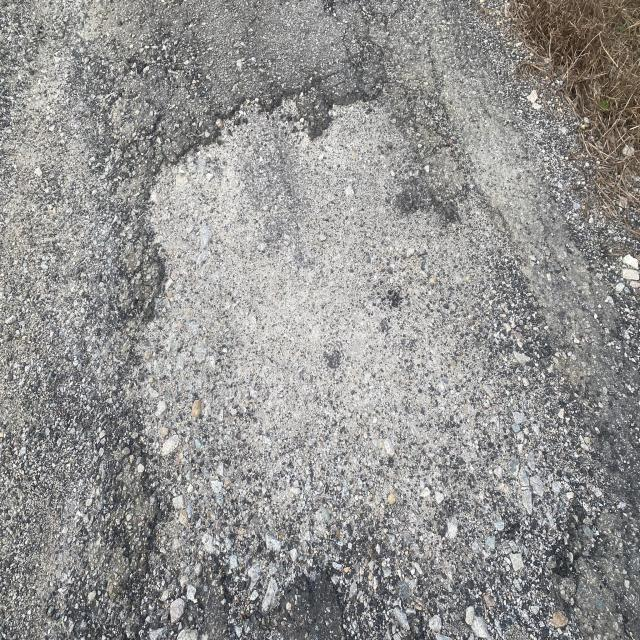pothole: (120, 74, 368, 634)
